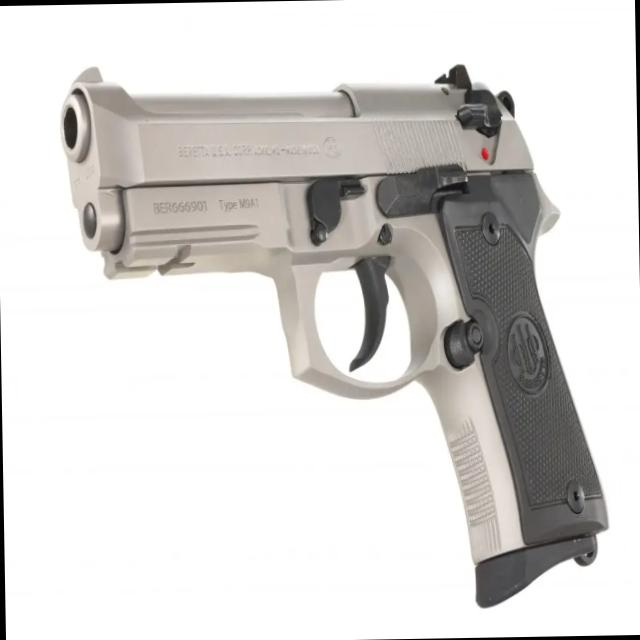Gun: (50, 41, 620, 628)
